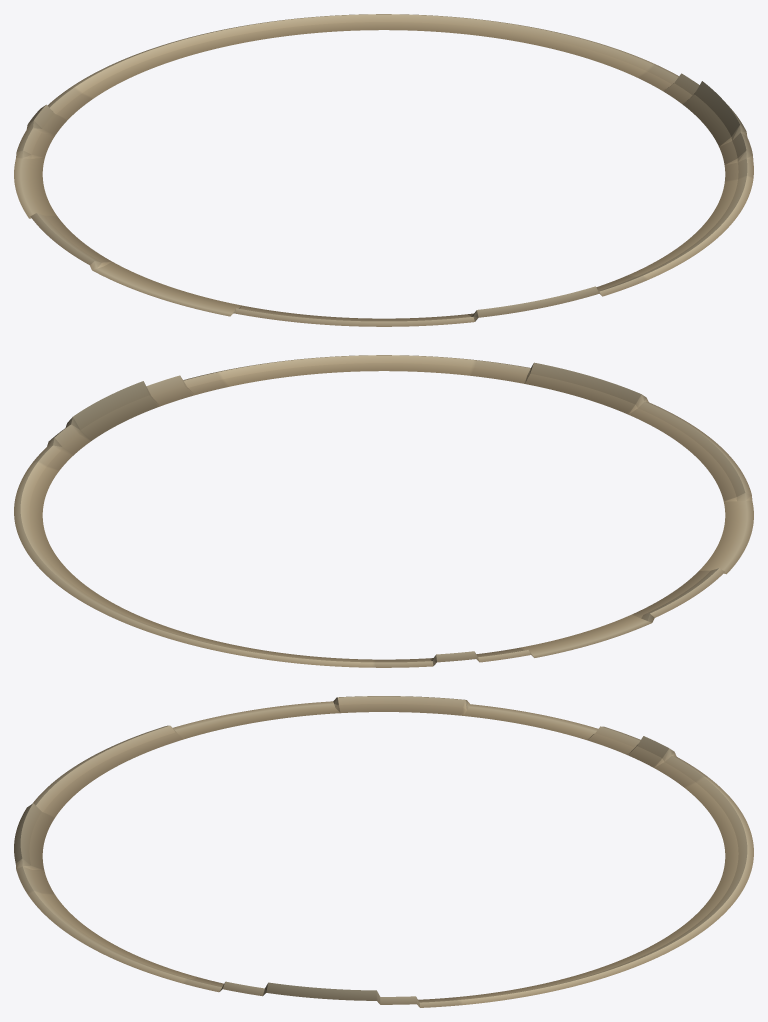
The model's file is near_mountains_ring.glb.
The picture shows the model from 3 angles, top to bottom: view 1: azimuth 30°, elevation 25°; view 2: azimuth 150°, elevation 25°; view 3: azimuth 270°, elevation 25°; orthographic projection.
Visible parts, largest first — view 1: geometry_0; view 2: geometry_0; view 3: geometry_0.
Part boxes in pixels (x1,y1,x2,y2): geometry_0: (14, 14, 753, 326); geometry_0: (14, 355, 753, 667); geometry_0: (14, 696, 753, 1007).
Size of the model in its own units: 2342 by 67.5 by 2342.
